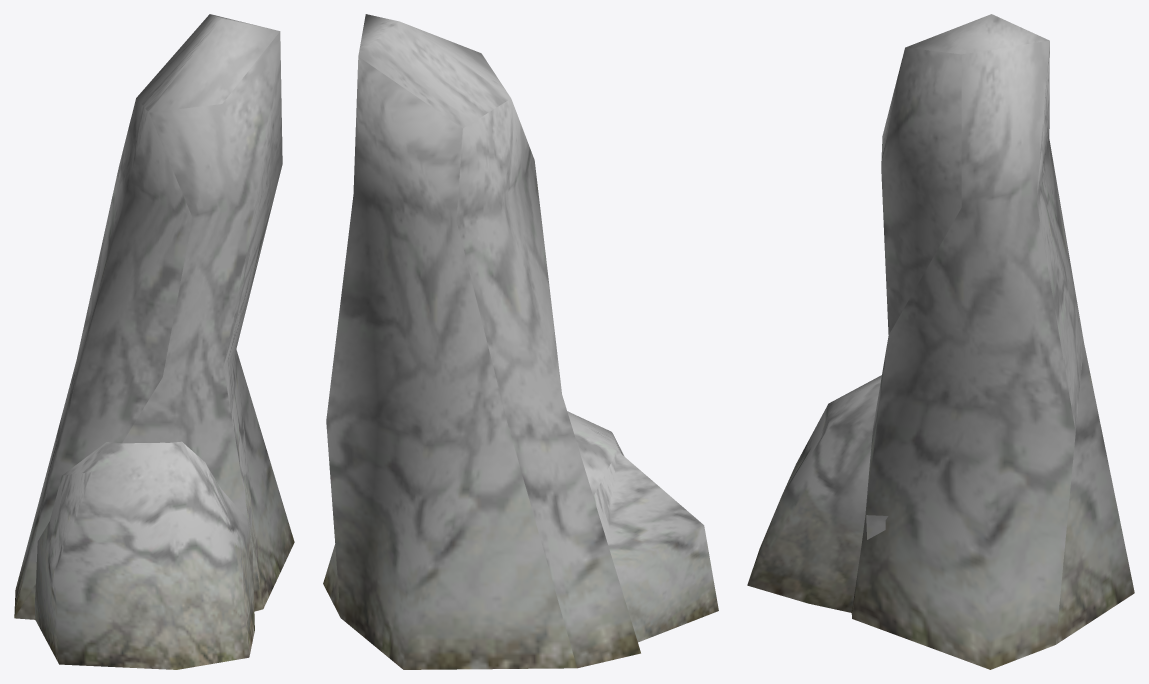
The model's file is general_obj_bigstone03.fbx.
The picture shows the model from 3 angles, left to right: view 1: azimuth 30°, elevation 25°; view 2: azimuth 150°, elevation 25°; view 3: azimuth 270°, elevation 25°; orthographic projection. The views are drawn at different scales.
Parts seen in each view (by area): view 1: Sphere01; view 2: Sphere01; view 3: Sphere01.
Boxes of the visible parts, x1=… form: Sphere01: x1=14, y1=14, x2=294, y2=669; Sphere01: x1=323, y1=14, x2=718, y2=669; Sphere01: x1=747, y1=14, x2=1134, y2=669.
Size of the model in its own units: 13.49 by 23.1 by 13.17.
